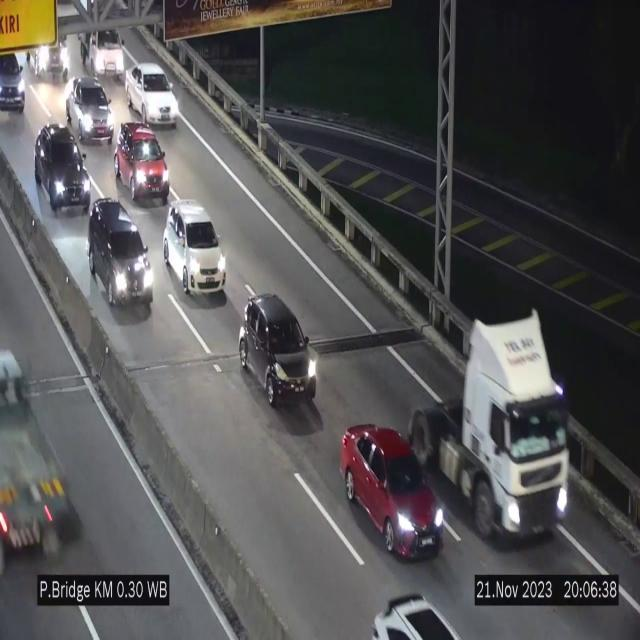Car: (340, 424, 446, 556), (85, 196, 157, 320), (239, 294, 317, 406), (34, 116, 98, 216), (163, 200, 227, 296), (359, 585, 463, 640), (115, 122, 169, 204), (126, 62, 180, 128), (20, 22, 76, 84), (66, 77, 114, 144), (0, 49, 26, 118)
Truck: (422, 306, 566, 541), (0, 327, 72, 573), (77, 9, 127, 78)
